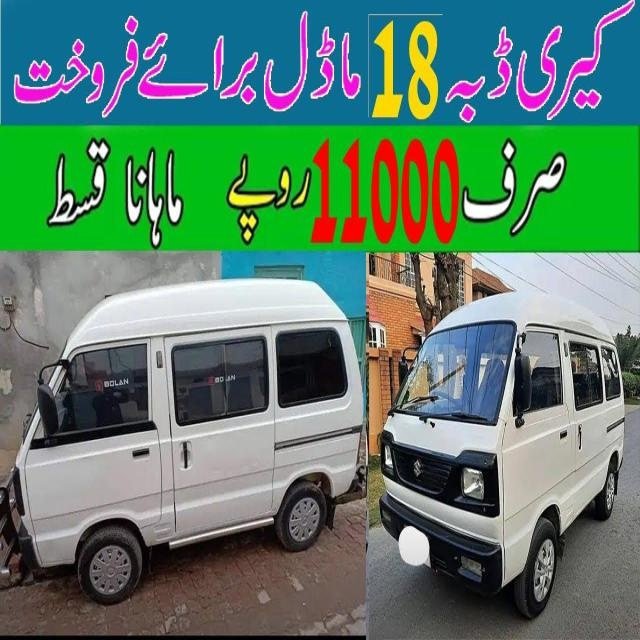Van: (1, 278, 364, 604), (376, 287, 627, 623)
